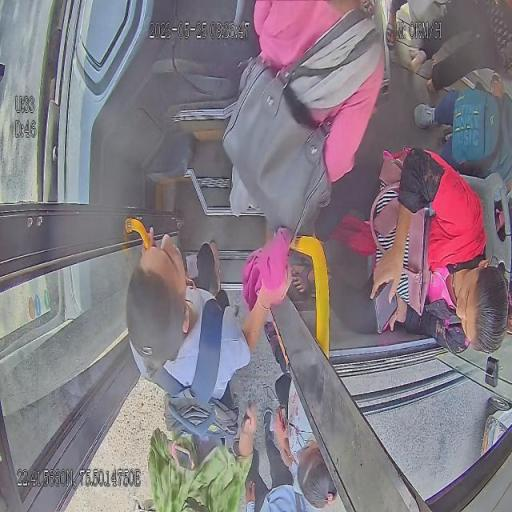persona: (290, 145, 510, 357), (221, 1, 387, 244), (124, 218, 294, 446), (264, 320, 340, 508), (413, 72, 512, 193), (149, 402, 257, 512), (238, 405, 301, 512)
